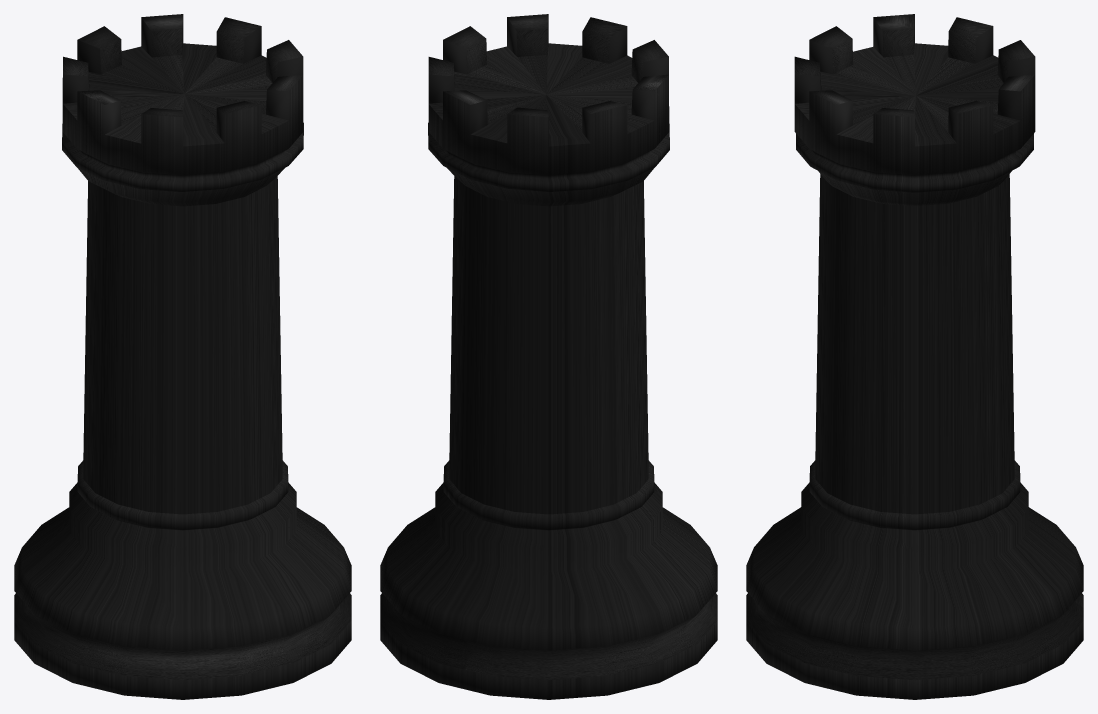
File: b-rook-stone.gltf
3 renders of one model, left to right at view 1: azimuth 30°, elevation 25°; view 2: azimuth 150°, elevation 25°; view 3: azimuth 270°, elevation 25°, orthographic.
Parts seen in each view (by area): view 1: B_Rook; view 2: B_Rook; view 3: B_Rook.
Boxes of the visible parts, bbox=[...] form: B_Rook: bbox=[14, 14, 351, 699]; B_Rook: bbox=[380, 14, 717, 699]; B_Rook: bbox=[746, 14, 1083, 699].
Bounding box in the file's own units: 49.35 × 91.38 × 48.6.
1 material, 1 textured.
